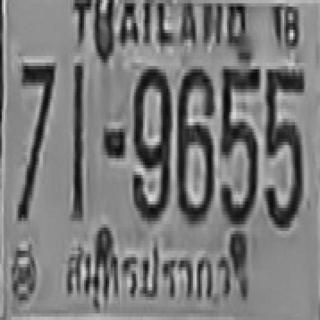N01: (71, 61, 82, 219)
N05: (263, 66, 304, 224), (220, 64, 259, 223)
N06: (175, 66, 213, 221)
N07: (17, 61, 54, 219)
N09: (131, 64, 170, 219)
P57: (55, 233, 235, 314)
